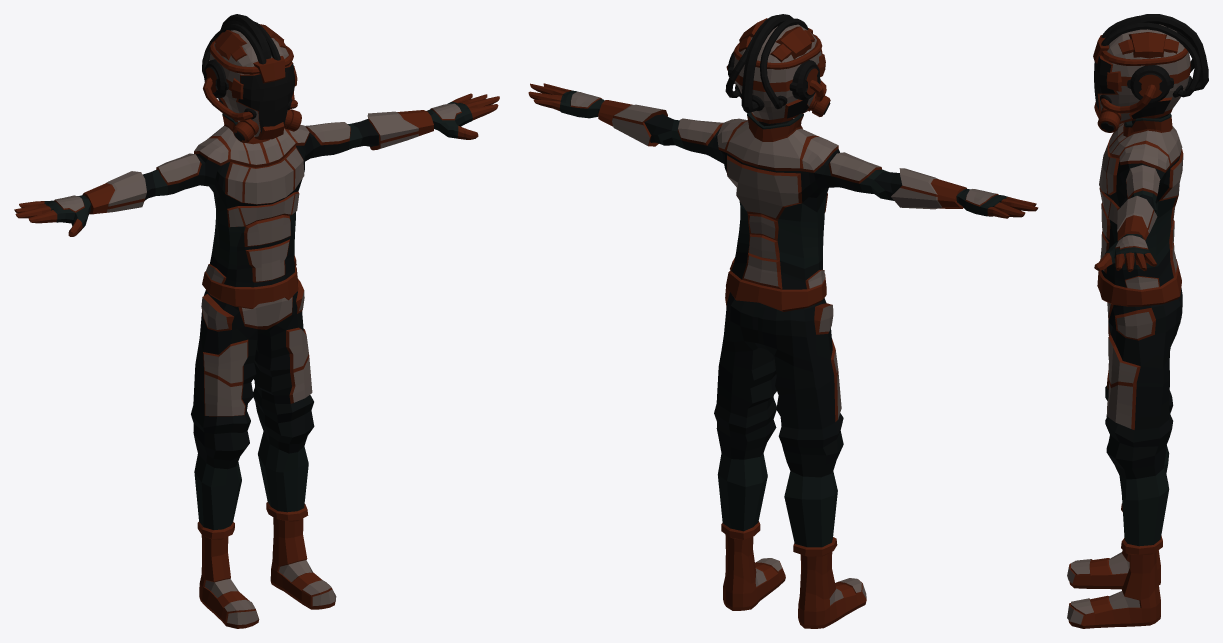
The model's file is Astronaut_.obj.
The picture shows the model from 3 angles, left to right: view 1: azimuth 30°, elevation 25°; view 2: azimuth 150°, elevation 25°; view 3: azimuth 270°, elevation 25°; orthographic projection. The views are drawn at different scales.
Visible parts, largest first — view 1: SpaceSuit_Legs; view 2: SpaceSuit_Legs; view 3: SpaceSuit_Legs.
Boxes of the visible parts, bbox=[...] form: SpaceSuit_Legs: bbox=[14, 14, 499, 628]; SpaceSuit_Legs: bbox=[528, 14, 1038, 628]; SpaceSuit_Legs: bbox=[1067, 14, 1208, 628].
Size of the model in its own units: 3.22 by 3.62 by 0.7926.
